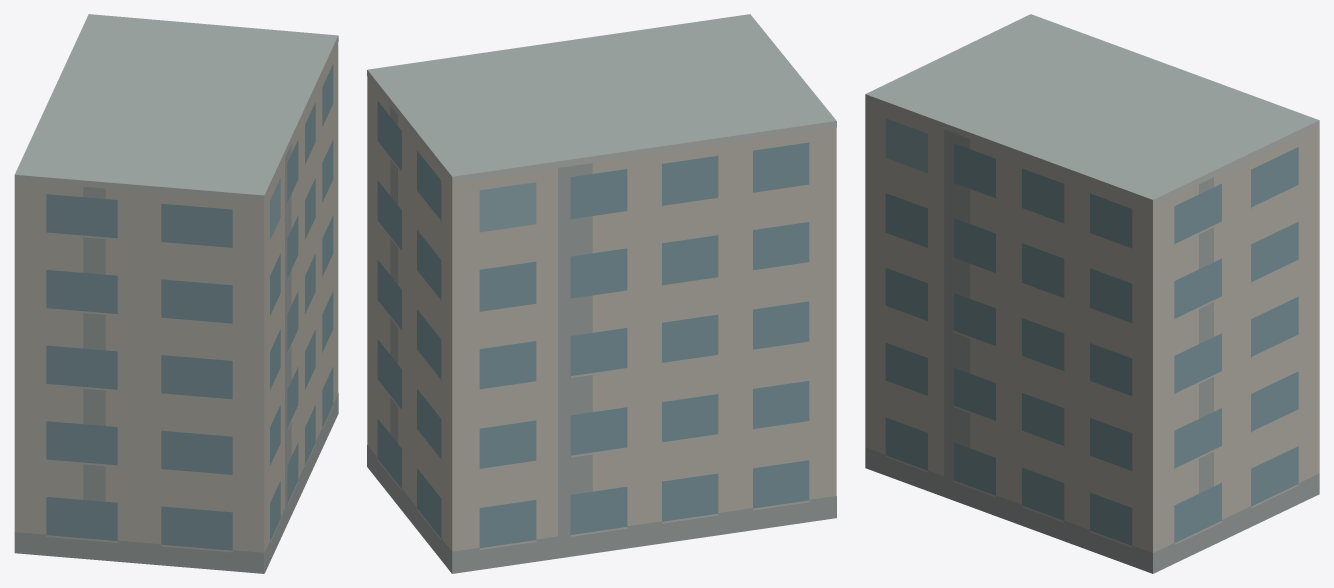
Rendered from survey-upis-32886834.glb.
The picture shows the model from 3 angles, left to right: view 1: azimuth 30°, elevation 25°; view 2: azimuth 150°, elevation 25°; view 3: azimuth 270°, elevation 25°; orthographic projection. The views are drawn at different scales.
Parts seen in each view (by area): view 1: survey-upis-32886834.tmp; view 2: survey-upis-32886834.tmp; view 3: survey-upis-32886834.tmp.
Part boxes in pixels (left/top/right/bottom): survey-upis-32886834.tmp: left=14, top=14, right=338, bottom=573; survey-upis-32886834.tmp: left=367, top=14, right=836, bottom=573; survey-upis-32886834.tmp: left=865, top=14, right=1319, bottom=573.
Size of the model in its own units: 15.36 by 14.4 by 15.86.
